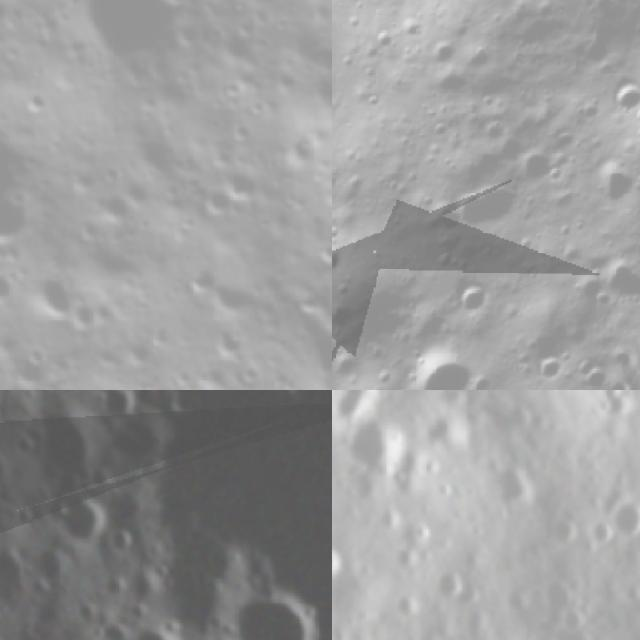crater: (440, 161, 527, 248), (337, 400, 415, 485), (215, 581, 323, 640), (393, 330, 493, 390), (39, 416, 110, 486), (443, 268, 502, 327), (0, 169, 38, 258), (592, 249, 640, 318), (423, 55, 481, 112), (53, 494, 108, 554), (587, 151, 640, 212), (510, 139, 565, 194), (29, 280, 86, 332), (596, 492, 640, 551), (427, 553, 471, 611), (479, 126, 528, 176), (332, 219, 358, 312), (601, 68, 640, 126), (332, 390, 389, 427), (525, 344, 568, 390), (415, 111, 457, 151), (470, 110, 510, 152), (581, 510, 621, 550), (570, 354, 614, 390), (99, 390, 145, 422), (364, 18, 403, 55), (105, 528, 137, 561), (0, 269, 23, 314), (332, 535, 352, 583), (626, 448, 640, 512), (132, 625, 191, 640), (0, 443, 15, 500), (623, 98, 640, 137)
